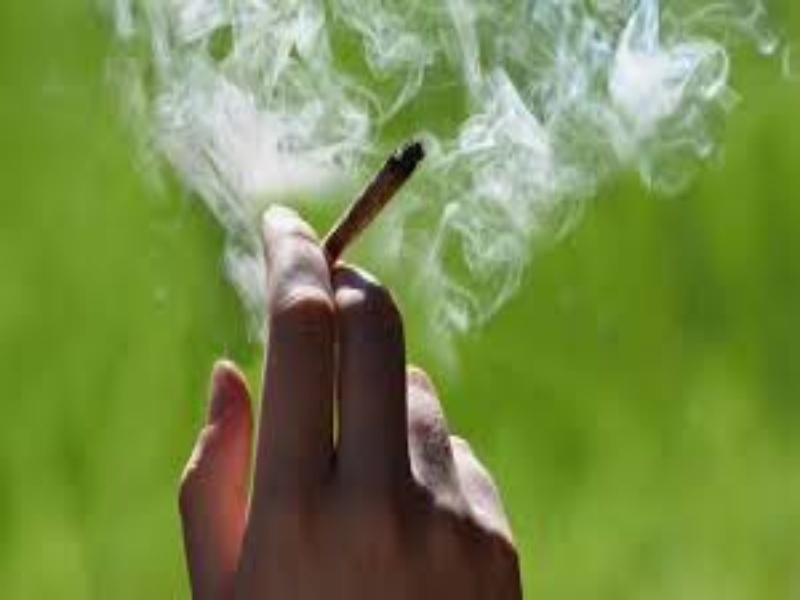smoke: (162, 1, 564, 261)
